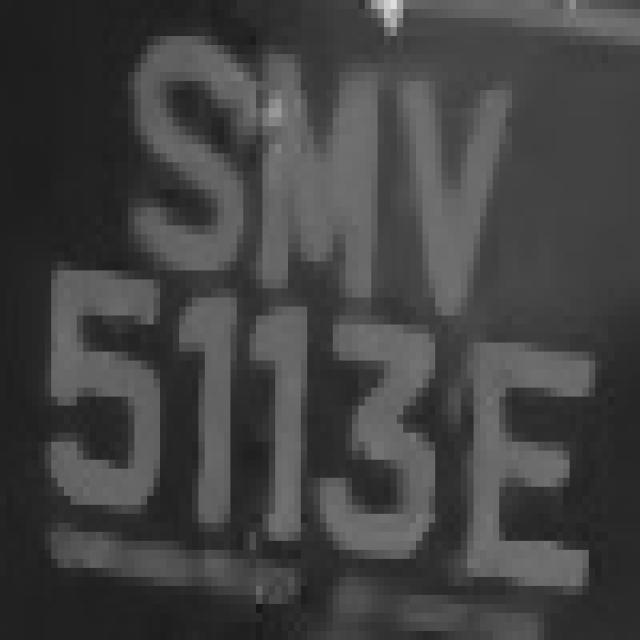1: (244, 288, 326, 577), (160, 279, 230, 568)
3: (320, 306, 435, 604)
5: (26, 225, 160, 532)
E: (448, 297, 608, 631)
M: (243, 36, 384, 334)
S: (115, 27, 256, 288)
V: (390, 45, 512, 352)
